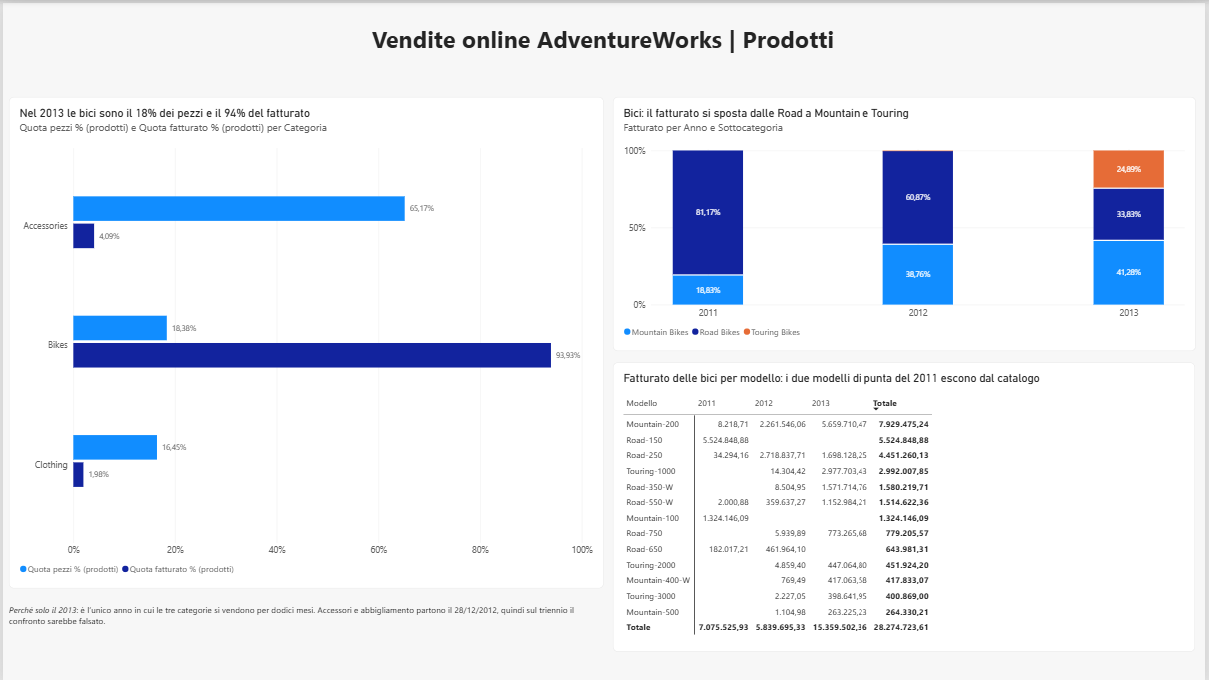

What the dashboard file says about the page in this screenshot:
{"tool":"powerbi","page":{"name":"Prodotti","canvas":[1920,1080],"ordinal":1},"visuals":[{"type":"textbox","box":[10,30,1896.7,66.7],"z":0},{"type":"clusteredBarChart","title":"Nel 2013 le bici sono il 18% dei pezzi e il 94% del fatturato","fields":{"Category":["Prodotti.Categoria"],"Y":["_Misure.Quota pezzi % (prodotti)","_Misure.Quota fatturato % (prodotti)"]},"box":[9.4,150.8,949.8,784.8],"z":1000},{"type":"textbox","box":[9.4,959.2,949.8,75.4],"z":2000},{"type":"hundredPercentStackedColumnChart","title":"Bici: il fatturato si sposta dalle Road a Mountain e Touring","fields":{"Category":["Calendario.Anno"],"Series":["Prodotti.Sottocategoria"],"Y":["_Misure.Fatturato"]},"box":[974,150,932,406],"z":3000},{"type":"pivotTable","title":"Fatturato delle bici per modello: i due modelli di punta del 2011 escono dal catalogo","fields":{"Columns":["Calendario.Anno"],"Rows":["Prodotti.Modello"],"Values":["_Misure.Fatturato"]},"box":[973.8,573.8,931,461.9],"z":4000}]}

Visuals, with their boxes in screenshot pixels (x1, y1, x2, y2), scaled from the page's 1920x1080 canvas onto the 1209x680 screenshot:
textbox: left=6, top=19, right=1201, bottom=61
"Nel 2013 le bici sono il 18% dei pezzi e il 94% del fatturato" clusteredBarChart: left=6, top=95, right=604, bottom=589
textbox: left=6, top=604, right=604, bottom=651
"Bici: il fatturato si sposta dalle Road a Mountain e Touring" hundredPercentStackedColumnChart: left=613, top=94, right=1200, bottom=350
"Fatturato delle bici per modello: i due modelli di punta del 2011 escono dal catalogo" pivotTable: left=613, top=361, right=1199, bottom=652
